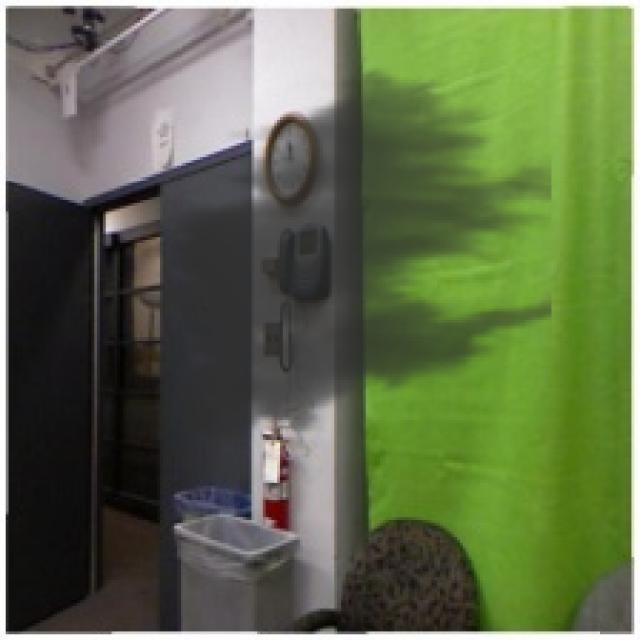Smoke: (139, 57, 552, 463)
